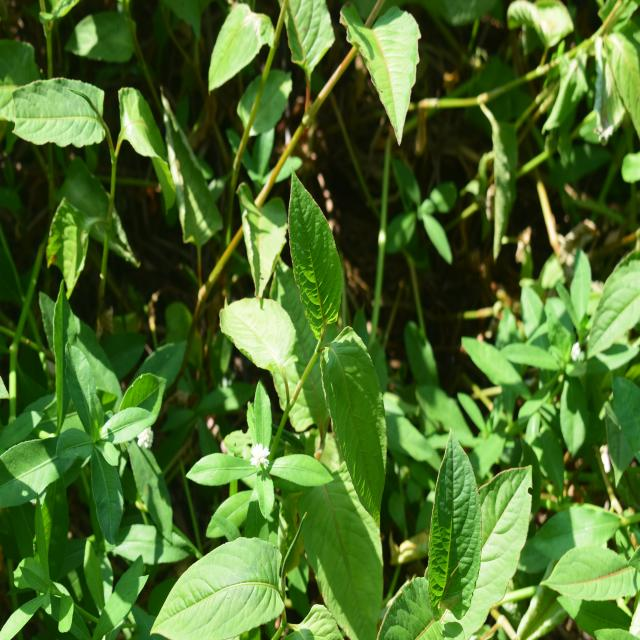Chinese_knotweed: (219, 182, 395, 490)
